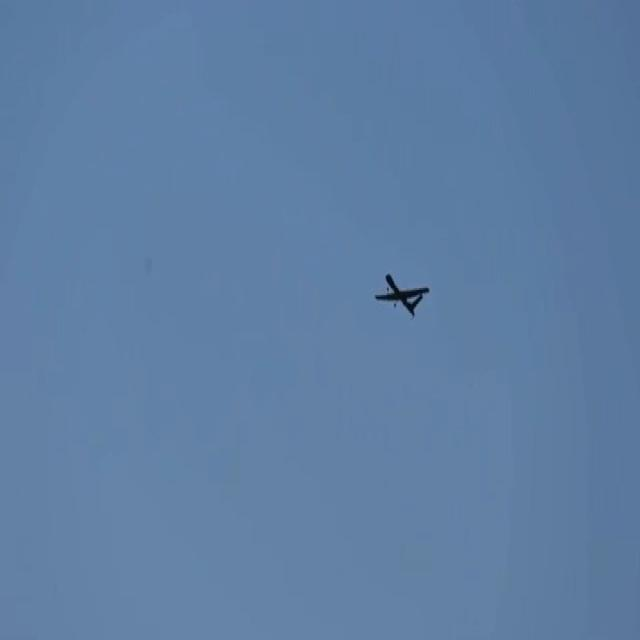iha: (375, 274, 428, 314)
